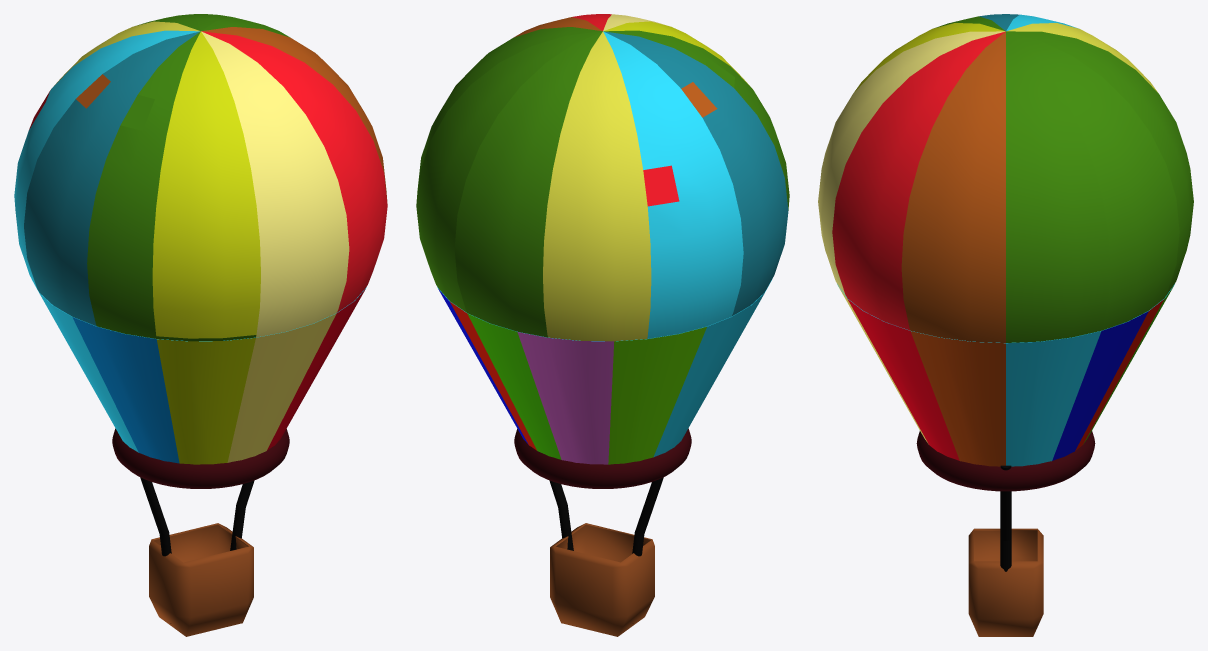
File: uçan balon.fbx
The picture shows the model from 3 angles, left to right: view 1: azimuth 30°, elevation 25°; view 2: azimuth 150°, elevation 25°; view 3: azimuth 270°, elevation 25°; orthographic projection.
Parts seen in each view (by area): view 1: Sphere.001, Sphere.002, Sphere.010, Sphere.011, Sphere.003, Cube, Cone.007, Cone.006, Cone.008, Sphere.009, Torus, Sphere.004 (+6 smaller); view 2: Sphere.008, Sphere.007, Sphere.009, Sphere.010, Sphere.006, Cube, Cone.003, Cone.004, Torus, Cone.002, Cone.005, Sphere.005 (+8 smaller); view 3: Sphere.004, Sphere.005, Sphere.003, Sphere.006, Cone.010, Cone.011, Cube, Sphere.002, Sphere.007, Cone.009, Torus, Cone.012 (+4 smaller).
Part boxes in pixels (<box>): Sphere.001: <box>152,32,260,338</box>; Sphere.002: <box>201,31,349,337</box>; Sphere.010: <box>24,31,200,326</box>; Sphere.011: <box>87,31,200,338</box>; Sphere.003: <box>29,31,387,312</box>; Cube: <box>149,523,253,636</box>; Cone.007: <box>156,338,255,464</box>; Cone.006: <box>72,317,179,463</box>; Cone.008: <box>227,313,336,462</box>; Sphere.009: <box>14,30,199,287</box>; Torus: <box>112,428,289,488</box>; Sphere.004: <box>76,27,387,200</box>; Sphere.008: <box>543,32,651,341</box>; Sphere.007: <box>454,31,602,337</box>; Sphere.009: <box>603,31,743,338</box>; Sphere.010: <box>603,31,788,316</box>; Sphere.006: <box>416,31,602,312</box>; Cube: <box>550,523,654,636</box>; Cone.003: <box>517,332,614,464</box>; Cone.004: <box>608,327,706,464</box>; Torus: <box>514,428,691,488</box>; Cone.002: <box>467,313,561,459</box>; Cone.005: <box>653,293,764,457</box>; Sphere.005: <box>416,27,734,200</box>; Sphere.004: <box>901,31,1005,342</box>; Sphere.005: <box>1006,31,1110,342</box>; Sphere.003: <box>832,31,1005,330</box>; Sphere.006: <box>1006,31,1179,330</box>; Cone.010: <box>910,331,1005,466</box>; Cone.011: <box>1006,331,1101,466</box>; Cube: <box>968,528,1043,636</box>; Sphere.002: <box>818,31,1005,296</box>; Sphere.007: <box>1006,31,1193,296</box>; Cone.009: <box>847,298,959,460</box>; Torus: <box>916,431,1095,491</box>; Cone.012: <box>1052,311,1148,460</box>.
Size of the model in its own units: 2658 by 4615 by 2658.
